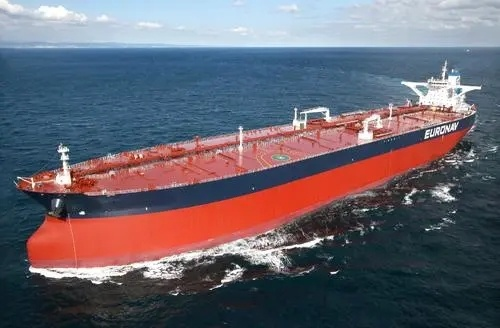Cargoship: (13, 57, 483, 268)
